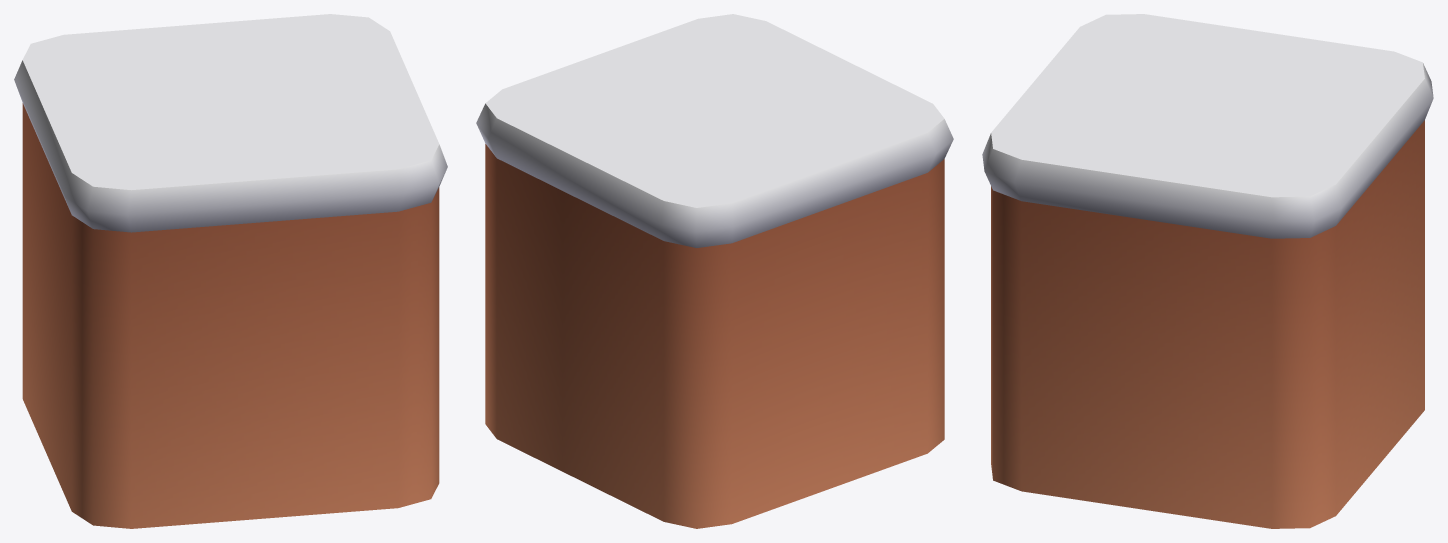
Rendered from n5_n5_block-snow-large-tall_lev5.glb.
3 views of the same model, side by side, from view 1: azimuth 30°, elevation 25°; view 2: azimuth 150°, elevation 25°; view 3: azimuth 270°, elevation 25° (orthographic). The views are drawn at different scales.
Parts seen in each view (by area): view 1: n5_n5_block-snow-large-tall_lev5; view 2: n5_n5_block-snow-large-tall_lev5; view 3: n5_n5_block-snow-large-tall_lev5.
Part boxes in pixels (left/top/right/bottom): n5_n5_block-snow-large-tall_lev5: left=14, top=14, right=447, bottom=528; n5_n5_block-snow-large-tall_lev5: left=476, top=14, right=953, bottom=528; n5_n5_block-snow-large-tall_lev5: left=982, top=14, right=1433, bottom=528.
Size of the model in its own units: 2.47 by 2 by 2.47.
Materials: 1 (1 with a texture image).
